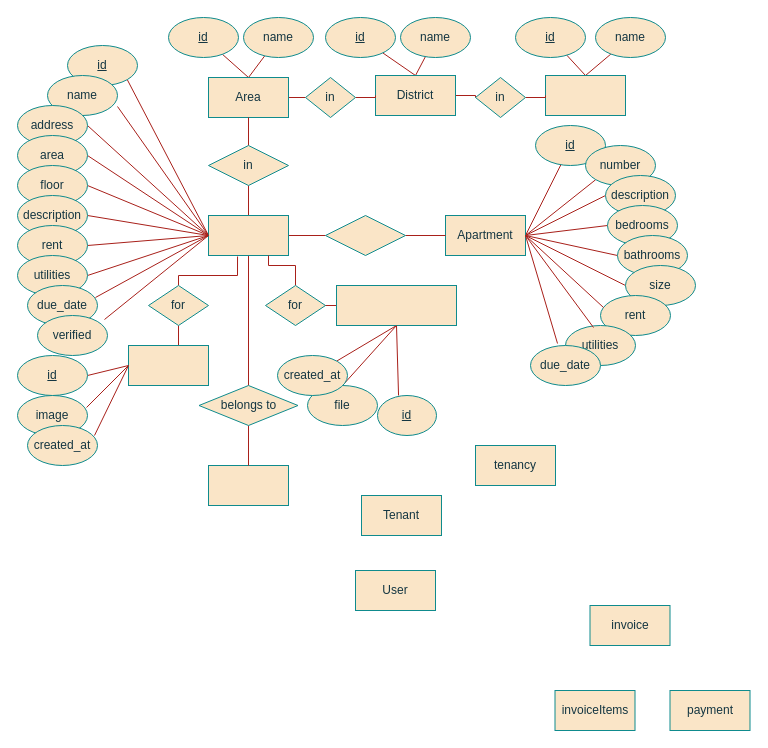
Some shapes in this 768 by 748 pixel diagram are drawn without their labels. Here are the shapes that lost their labels. From the top down, the centre of each, then its label:
[585,95]: Division
[248,235]: property
[365,235]: of
[396,305]: propertyDocument
[168,365]: propertyImage
[248,485]: Owner
